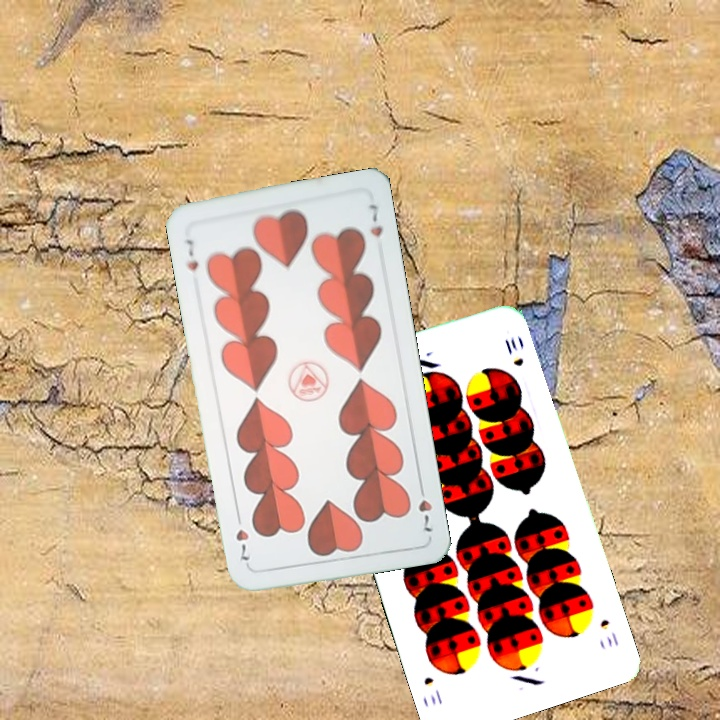H7: (414, 479, 435, 535), (182, 235, 201, 273)
S10: (596, 615, 621, 650)
